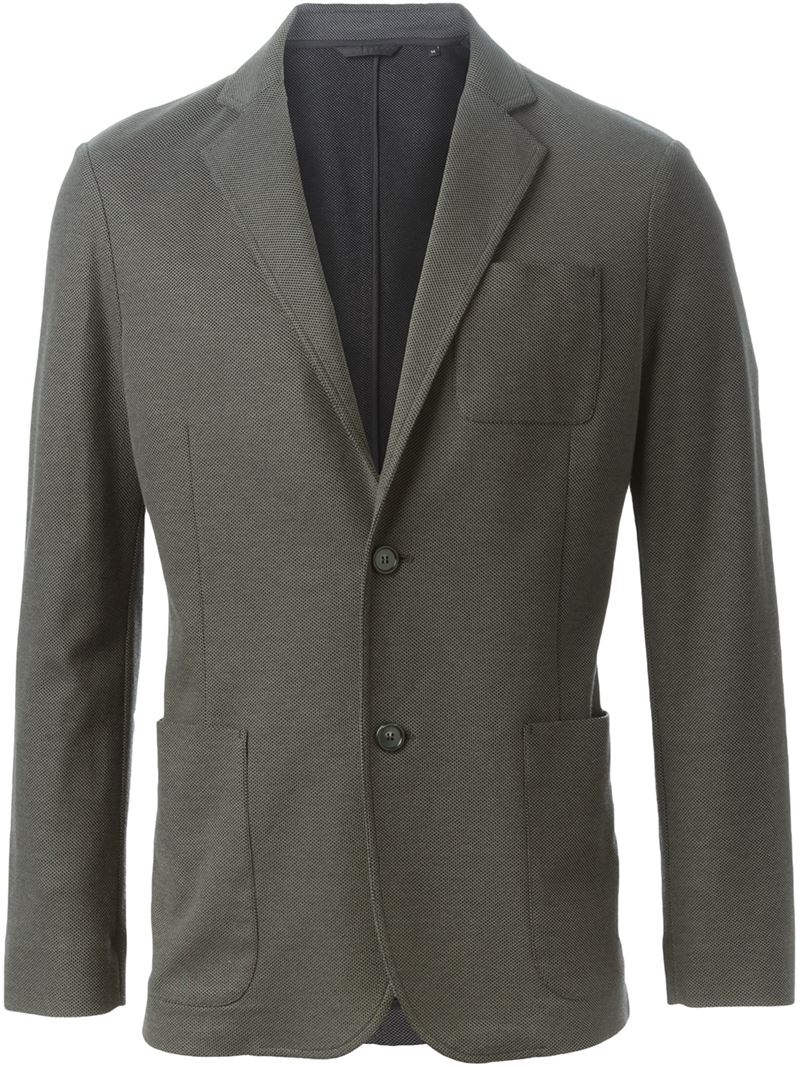F_M_suit jacket: (16, 35, 790, 1025)
